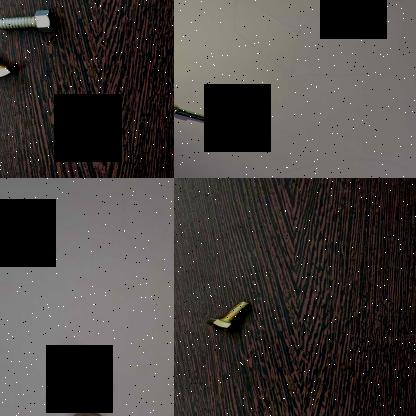Bolts: (201, 296, 256, 334), (0, 6, 60, 36), (174, 102, 220, 128), (0, 43, 20, 83)
NUTS: (54, 372, 100, 398), (54, 350, 90, 370), (65, 410, 106, 416)
